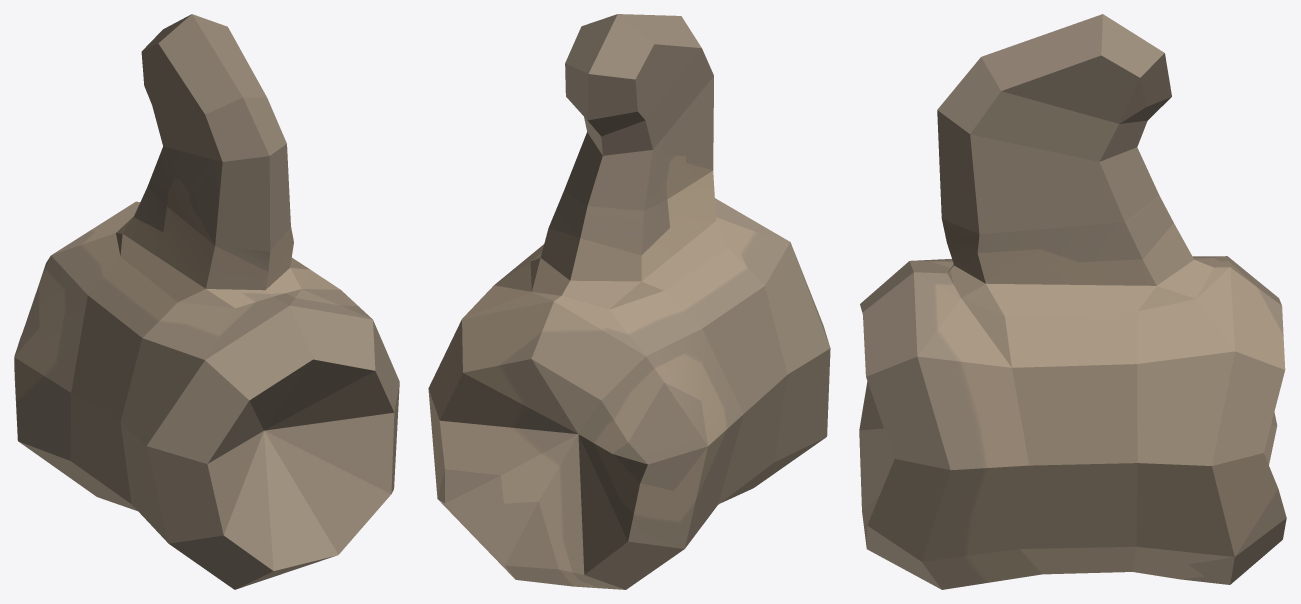
Rendered from bones.gltf.
3 views of the same model, side by side, from view 1: azimuth 30°, elevation 25°; view 2: azimuth 150°, elevation 25°; view 3: azimuth 270°, elevation 25° (orthographic). The views are drawn at different scales.
Parts seen in each view (by area): view 1: bones; view 2: bones; view 3: bones.
Part boxes in pixels (x1,y1,x2,y2): bones: (14, 14, 399, 589); bones: (428, 14, 830, 589); bones: (859, 14, 1286, 589).
Size of the model in its own units: 0.6692 by 1.19 by 0.8406.
1 material, 1 textured.
